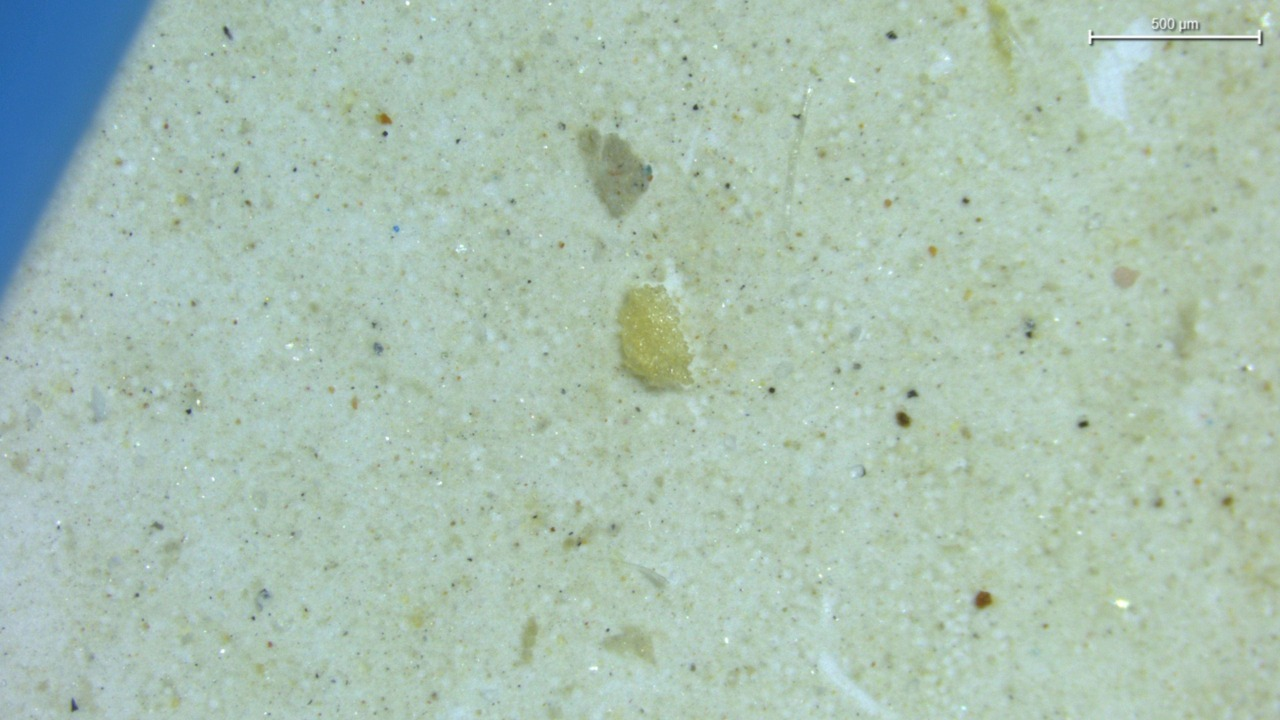microplastic_fragment: (617, 284, 693, 386)
